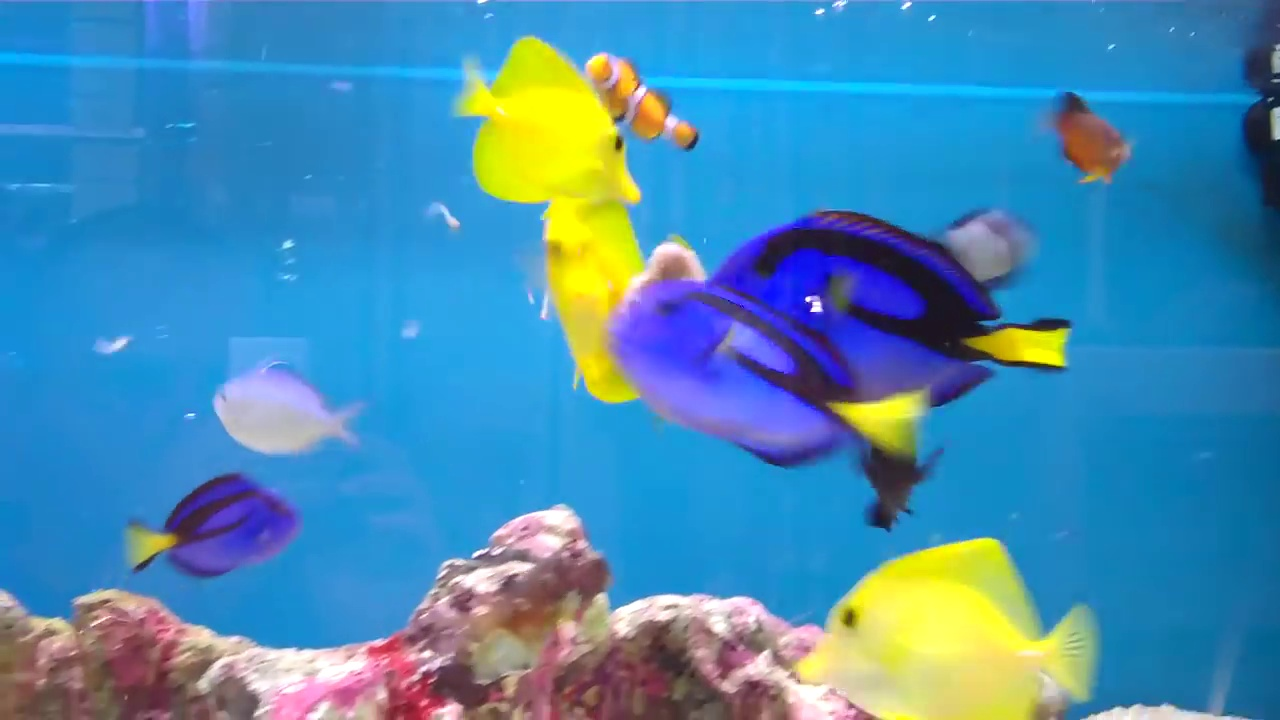blue tang surgeonfish: (704, 210, 1070, 408), (597, 269, 921, 491), (113, 467, 307, 576)
damselfish: (203, 354, 359, 472)
saddle butterfly fish: (801, 534, 1115, 720), (449, 28, 638, 203)
